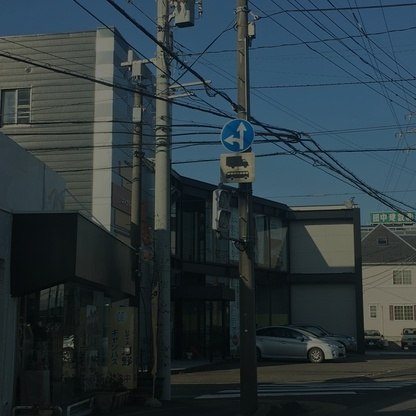Direction_sign: (218, 120, 257, 153)
